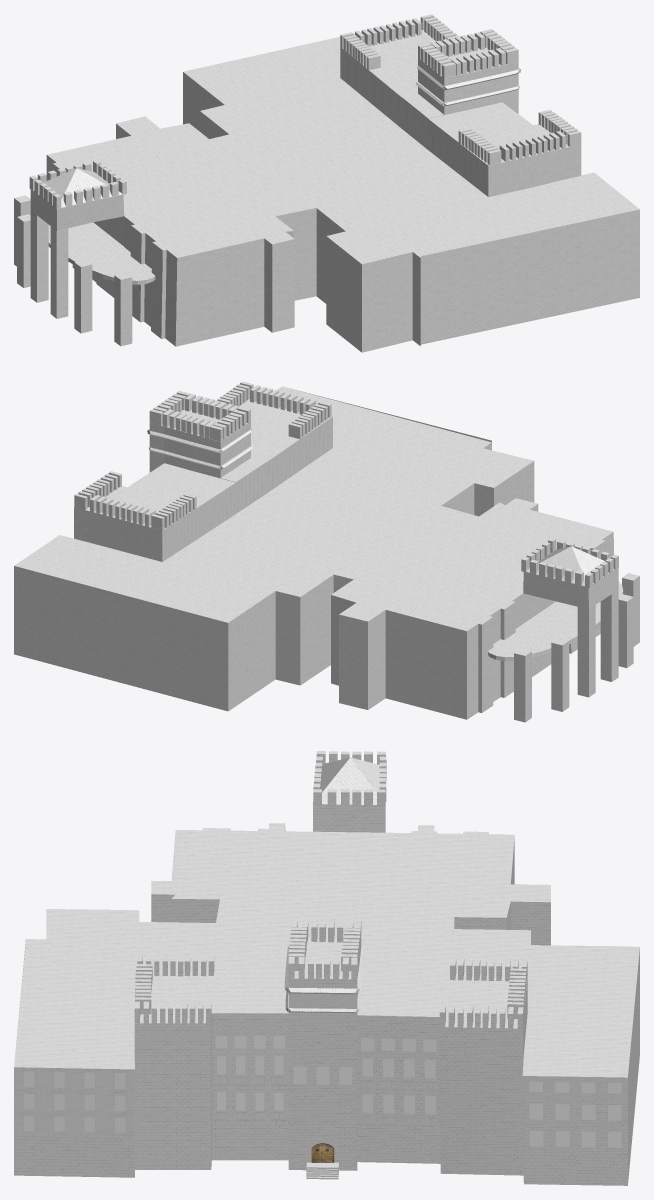
The model's file is BradleyHallExtTextured_v2.gltf.
The picture shows the model from 3 angles, top to bottom: view 1: azimuth 30°, elevation 25°; view 2: azimuth 150°, elevation 25°; view 3: azimuth 270°, elevation 25°; orthographic projection. The views are drawn at different scales.
Visible parts, largest first — view 1: Bradley_Hall; view 2: Bradley_Hall; view 3: Bradley_Hall.
Boxes of the visible parts, bbox=[...] form: Bradley_Hall: bbox=[14, 14, 639, 352]; Bradley_Hall: bbox=[14, 381, 639, 722]; Bradley_Hall: bbox=[14, 751, 639, 1185].
Bounding box in the file's own units: 83.57 × 28.43 × 77.5.
3 materials, 2 textured.
